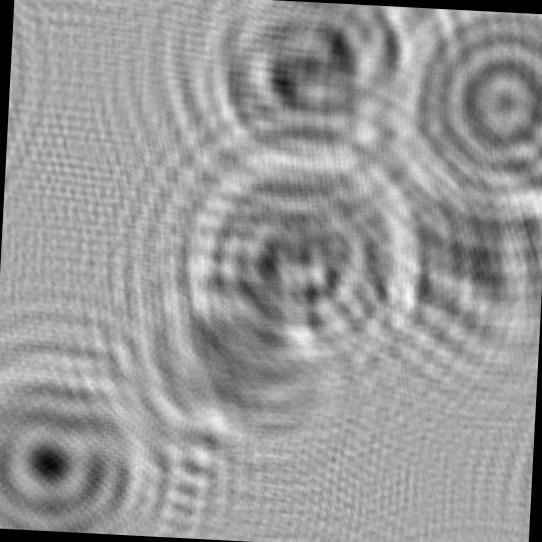G: (139, 114, 453, 413)
O: (387, 6, 542, 220)
P: (0, 333, 200, 538)
S: (170, 0, 437, 195)
V: (356, 127, 542, 394)
Y: (70, 244, 392, 502)
